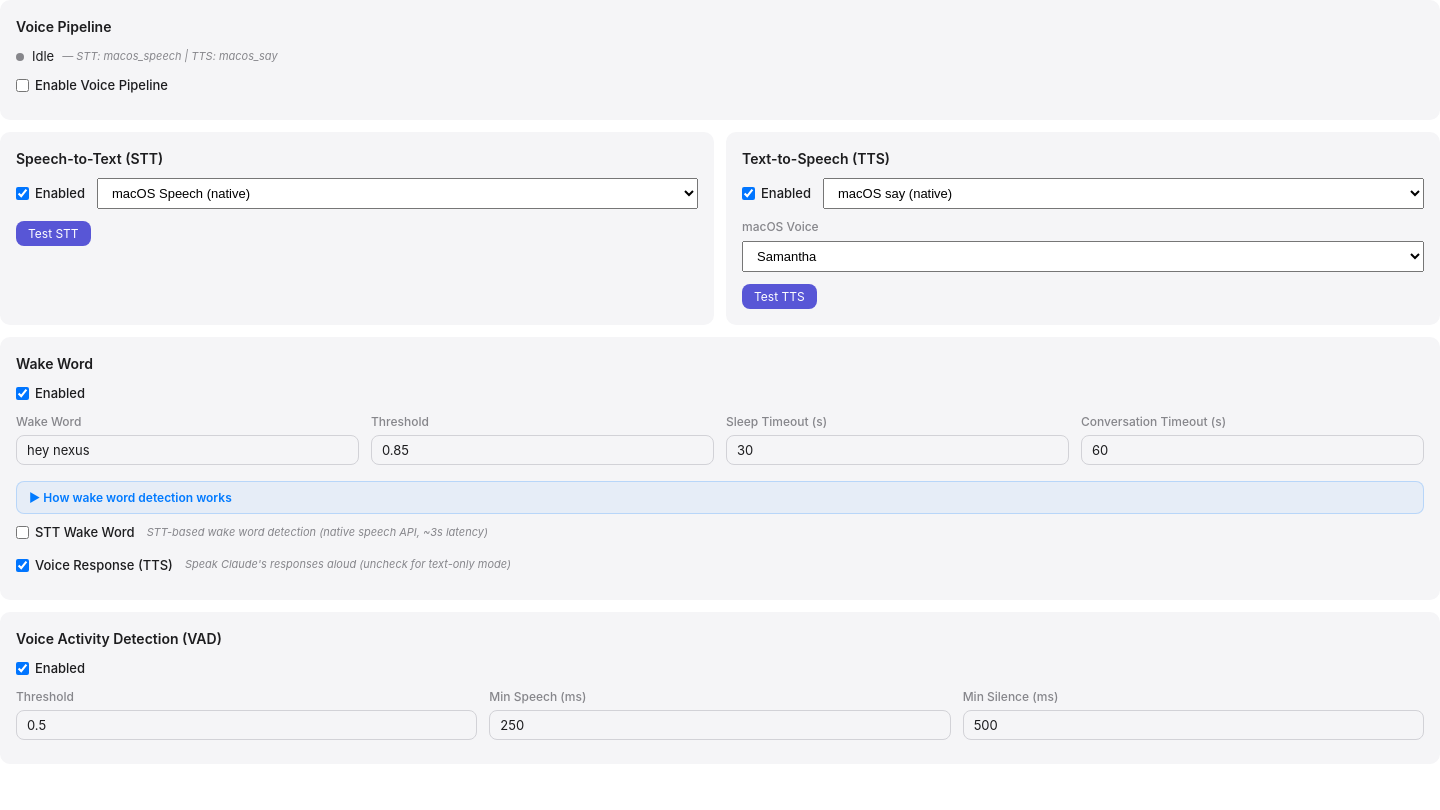
Test: VoiceTab › STT settings › Test STT button shows Listening label while running
Click the button "Test STT" at (53, 234), box x1=16 y1=221 x2=91 y2=246
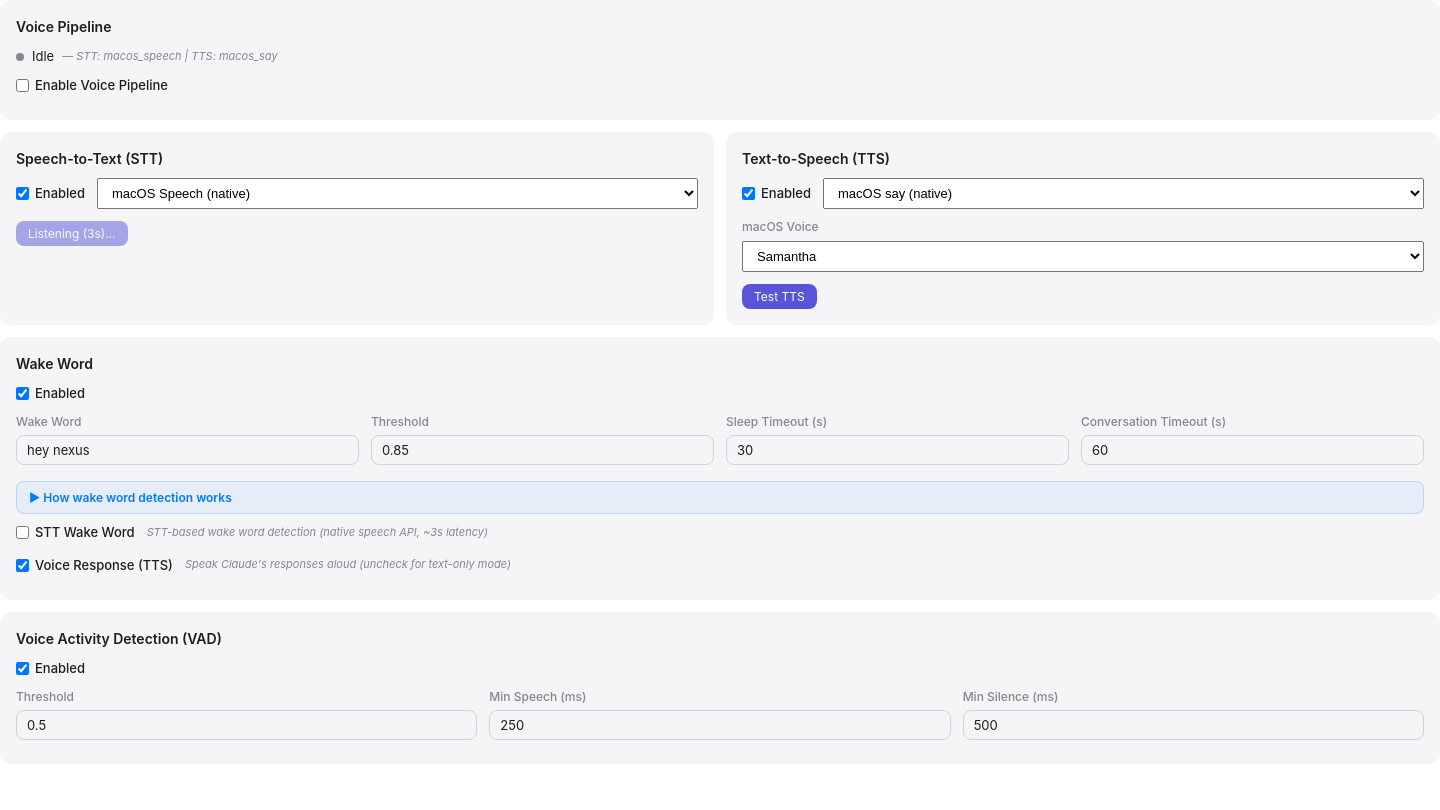
Expected: the button "Listening (3s)..." is disabled, x1=16 y1=221 x2=128 y2=246
